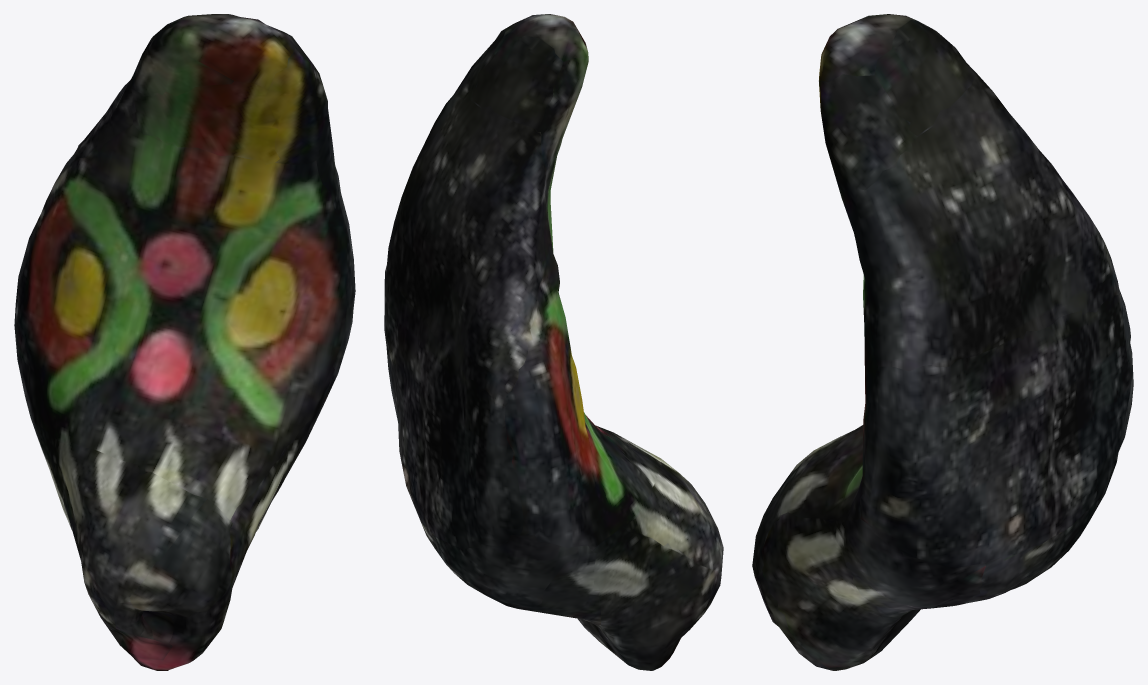
File: hall.glb
3 renders of one model, left to right at view 1: azimuth 30°, elevation 25°; view 2: azimuth 150°, elevation 25°; view 3: azimuth 270°, elevation 25°, orthographic. The views are drawn at different scales.
Size of the model in its own units: 0.2979 by 0.6087 by 0.3076.
Materials: 1 (1 with a texture image).
